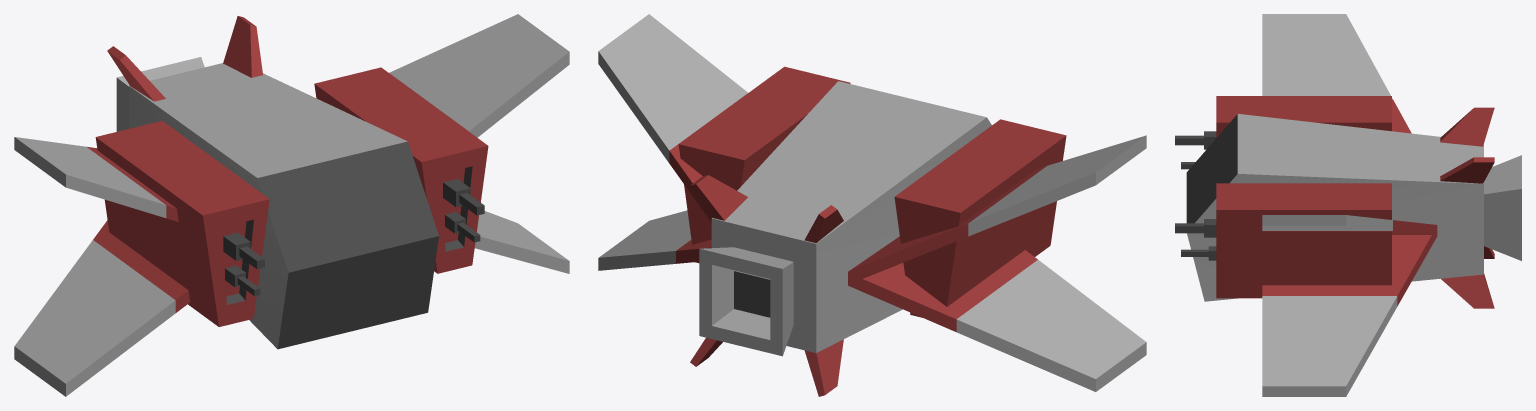
File: spaceship2.glb
3 renders of one model, left to right at view 1: azimuth 30°, elevation 25°; view 2: azimuth 150°, elevation 25°; view 3: azimuth 270°, elevation 25°, orthographic. The views are drawn at different scales.
Parts seen in each view (by area): view 1: hull, boxRight, wingLowerRight, boxLeft, wingUpperLeft, wingUpperRight, wingLowerLeft, tailUpperLeft, engine, tailUpperRight, baseUpperCannonLeft, baseUpperCannonRight; view 2: hull, wingLowerRight, boxRight, wingUpperLeft, boxLeft, engine, wingUpperRight, wingLowerLeft, tailUpperLeft, tailLowerLeft, tailUpperRight; view 3: hull, boxLeft, wingLowerLeft, wingUpperRight, boxRight, engine, wingUpperLeft, tailUpperRight, tailLowerRight, tailUpperLeft, upperCannonLeft, upperCannonRight.
Part boxes in pixels (x1,y1,x2,y2): hull: (129, 63, 438, 349); boxRight: (95, 120, 269, 326); wingLowerRight: (14, 220, 190, 396); boxLeft: (314, 67, 488, 273); wingUpperLeft: (389, 14, 569, 137); wingUpperRight: (14, 137, 178, 221); wingLowerLeft: (474, 211, 569, 273); tailUpperLeft: (223, 16, 262, 77); engine: (116, 57, 204, 131); tailUpperRight: (107, 46, 165, 101); baseUpperCannonLeft: (443, 179, 470, 206); baseUpperCannonRight: (223, 232, 250, 260); hull: (711, 81, 991, 352); wingLowerRight: (848, 250, 1146, 391); boxRight: (894, 119, 1066, 317); wingUpperLeft: (598, 14, 747, 222); boxLeft: (678, 66, 850, 263); engine: (699, 247, 793, 356); wingUpperRight: (848, 135, 1146, 283); wingLowerLeft: (598, 210, 711, 270); tailUpperLeft: (690, 175, 747, 220); tailLowerLeft: (804, 339, 843, 396); tailUpperRight: (804, 205, 843, 242); hull: (1186, 114, 1483, 301); boxLeft: (1216, 183, 1391, 298); wingLowerLeft: (1262, 226, 1437, 396); wingUpperRight: (1262, 14, 1411, 133); boxRight: (1216, 96, 1391, 137); engine: (1484, 155, 1521, 260); wingUpperLeft: (1262, 215, 1437, 235); tailUpperRight: (1440, 107, 1494, 146); tailLowerRight: (1441, 273, 1494, 308); tailUpperLeft: (1440, 157, 1494, 183); upperCannonLeft: (1175, 223, 1203, 233); upperCannonRight: (1175, 135, 1203, 145).
Size of the model in its own units: 456 by 192 by 332.
